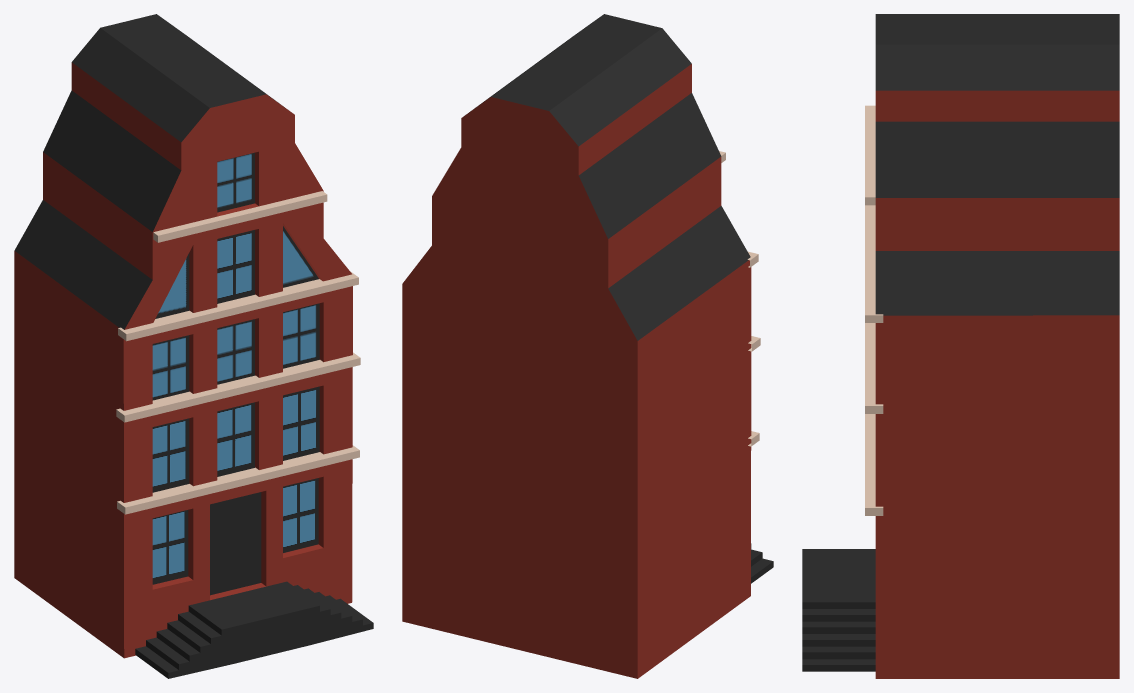
Rendered from HighRed.obj.
The picture shows the model from 3 angles, left to right: view 1: azimuth 30°, elevation 25°; view 2: azimuth 150°, elevation 25°; view 3: azimuth 270°, elevation 25°; orthographic projection. The views are drawn at different scales.
Parts seen in each view (by area): view 1: WysokiCzerwony; view 2: WysokiCzerwony; view 3: WysokiCzerwony.
Boxes of the visible parts, x1,y1,x2,y2 form: WysokiCzerwony: (14,14,373,678); WysokiCzerwony: (402,14,773,678); WysokiCzerwony: (802,14,1119,678).
Bounding box in the file's own units: 6.21 × 13.31 × 6.5.
